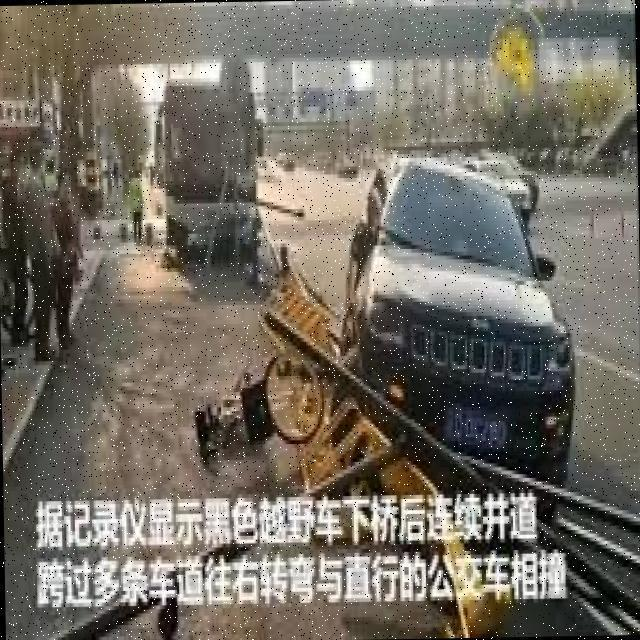accident: (305, 112, 594, 523)
